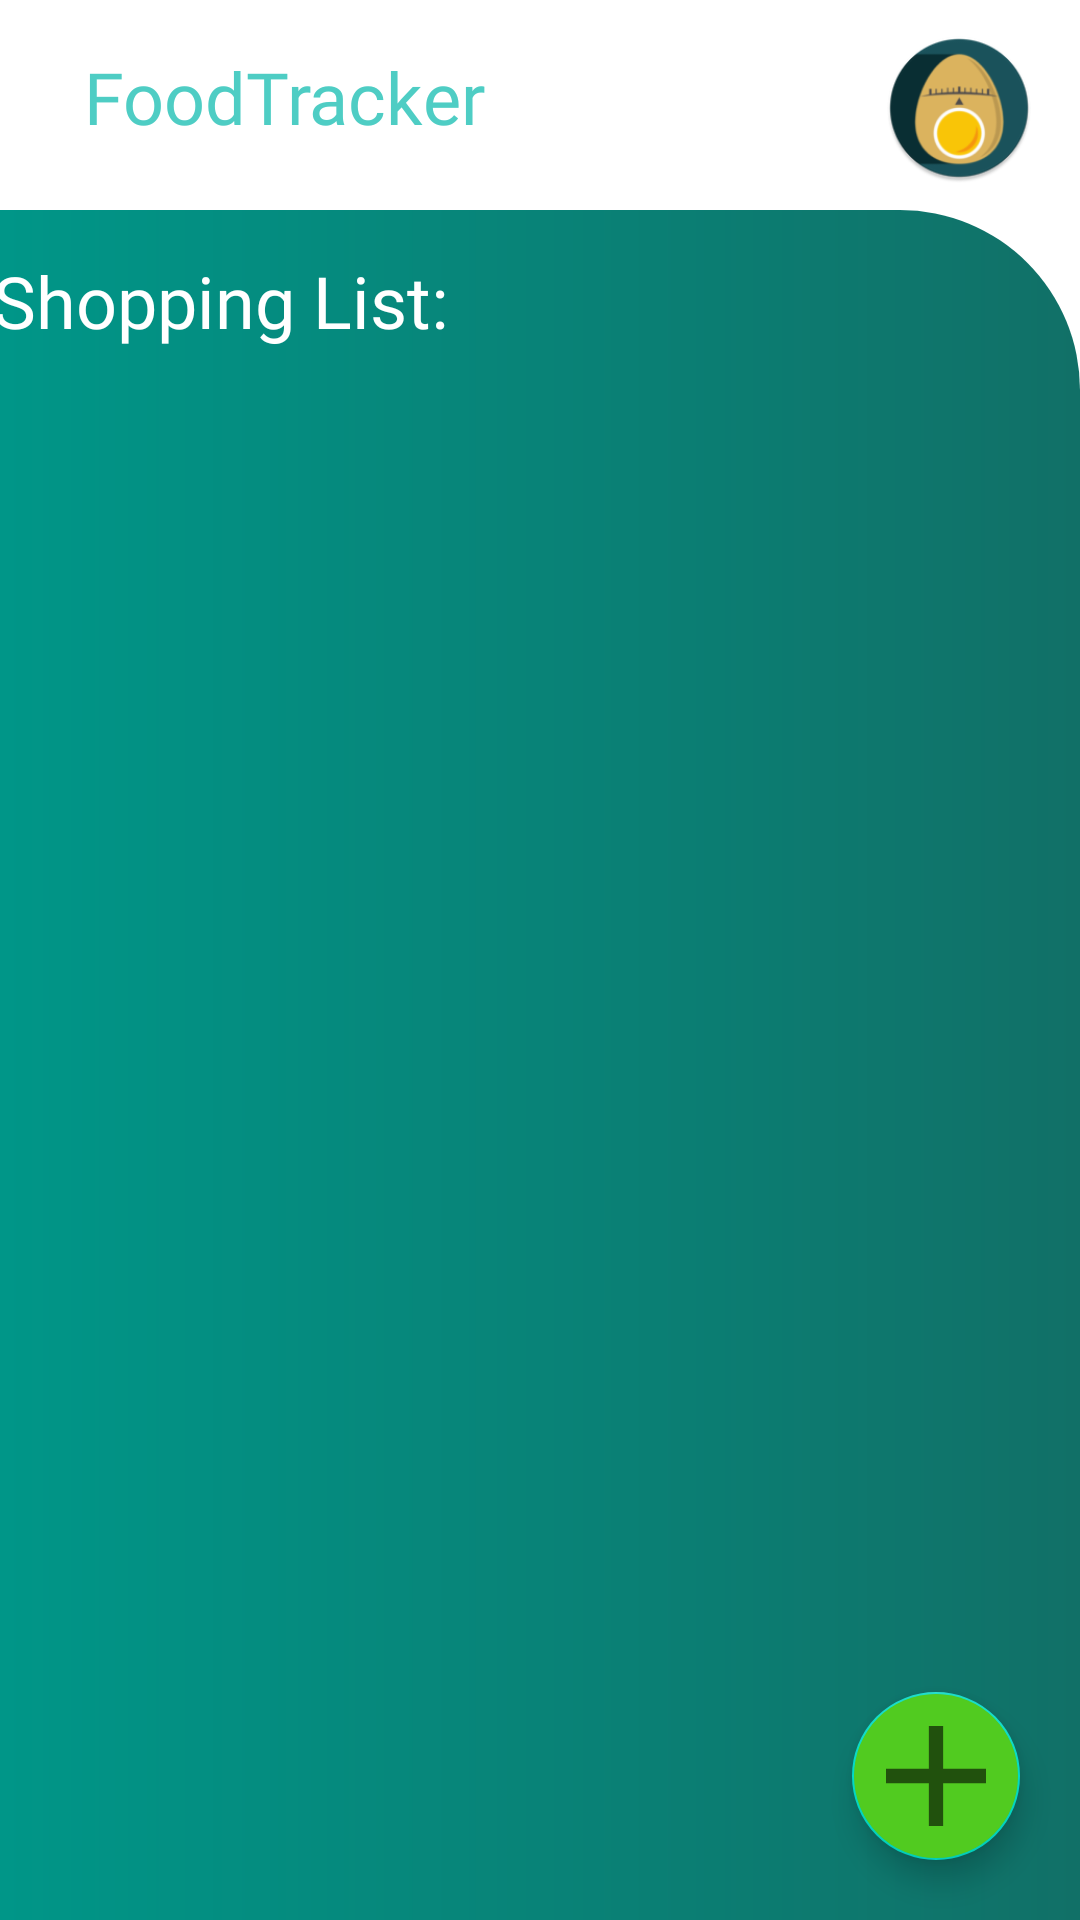

Screen size 1080 x 1920. Icon name, then its box in pixels as (x1, y1, x2, y2):
plus: (852, 1692, 1020, 1860)
